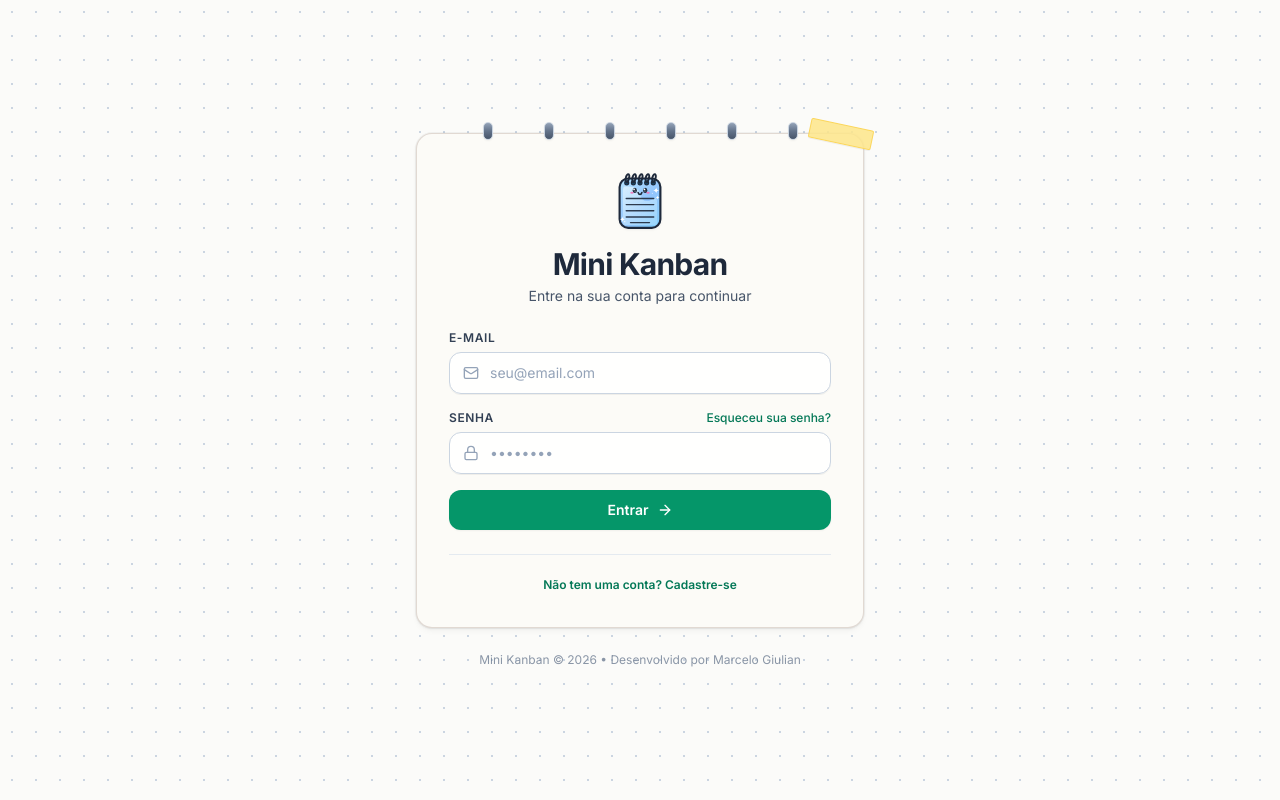
Test: PaginaLogin › alterna para o cadastro
The width and height of the screenshot is (1280, 800).
Click the button "Não tem uma conta? Cadastre-se". click: (640, 584)
box: [543,576,737,592]
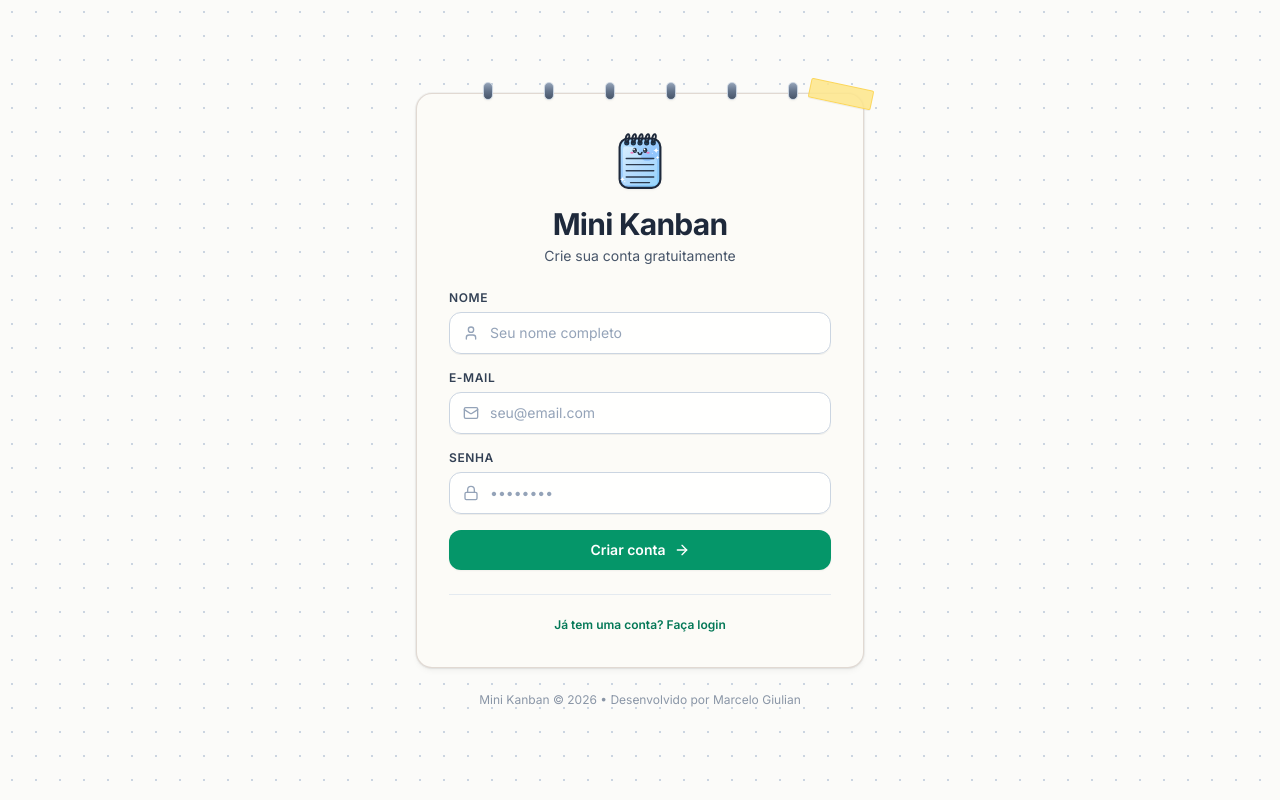
Check: the field labelled "Nome" is shown, box [449,312,831,354]
Check: the text "Crie sua conta gratuitamente" is shown, box [544,246,736,264]
